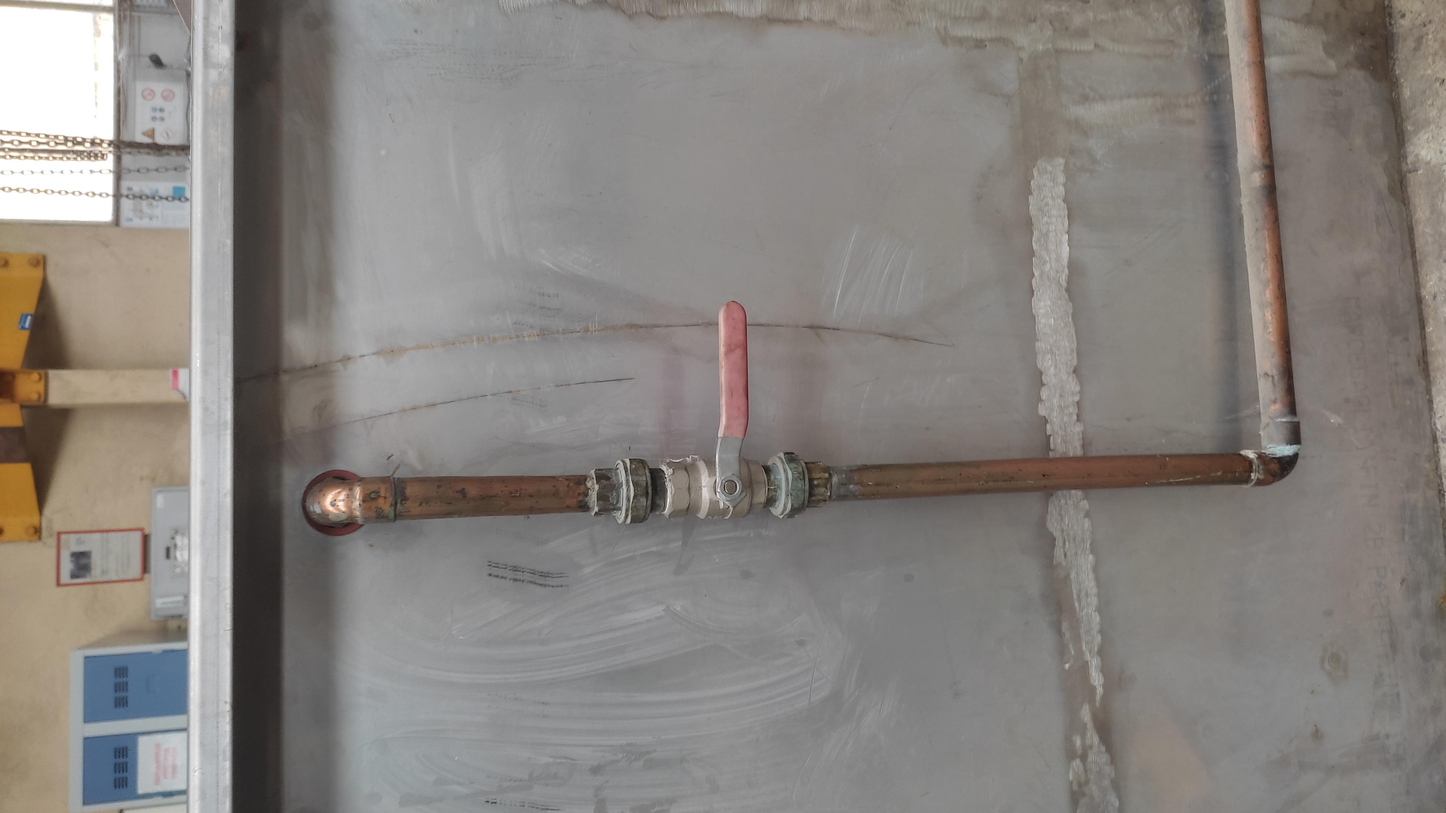closed valve: (659, 299, 770, 522)
